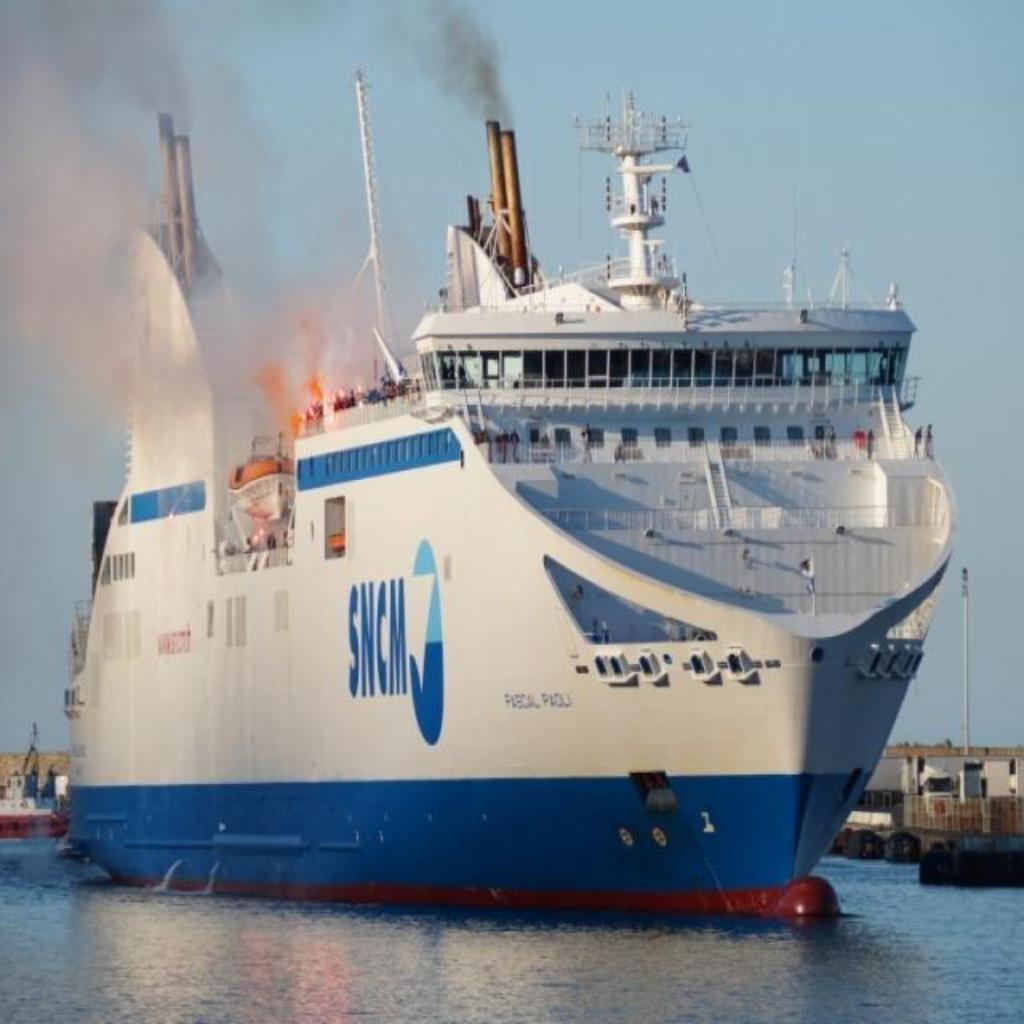PassengerShip: (55, 78, 967, 942)
